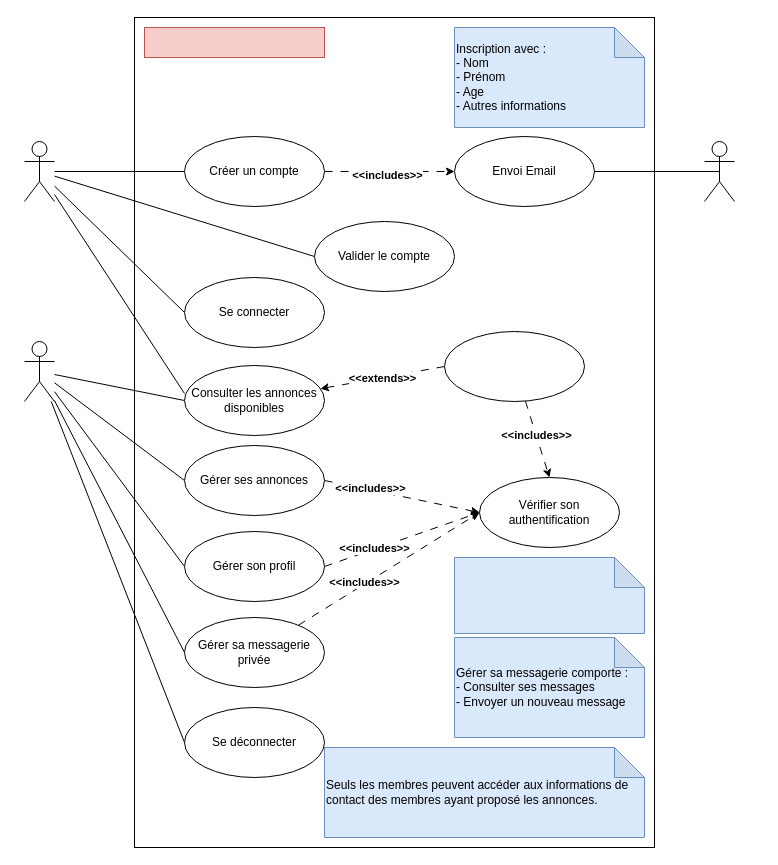
Image size: 778x865. Some labels were removed from this diagram. The centre of each missing label's shape, as x and y in pixels:
"Accéder aux informations de contact" goes at point 514,366.
"Gérer son profil comporte : - Consulter - Editer" goes at point 549,595.
"Membre" goes at point 39,371.
"Site Internet Covoiturage" goes at point 234,42.
"Système Email <<secondary>>" goes at point 719,171.
"Visiteur" goes at point 39,171.
